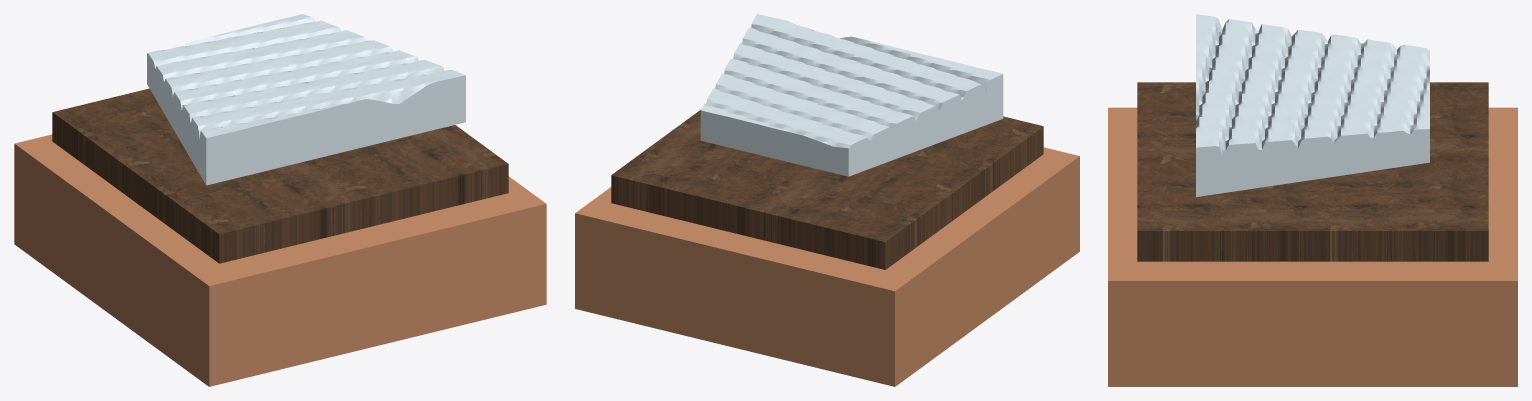
File: isostasy.glb
3 views of the same model, side by side, from view 1: azimuth 30°, elevation 25°; view 2: azimuth 150°, elevation 25°; view 3: azimuth 270°, elevation 25° (orthographic). The views are drawn at different scales.
Parts seen in each view (by area): view 1: Isostasy_Mantle, Isostasy_Crust, Isostasy_Ice; view 2: Isostasy_Mantle, Isostasy_Crust, Isostasy_Ice; view 3: Isostasy_Mantle, Isostasy_Crust, Isostasy_Ice.
Part boxes in pixels (x1,y1,x2,y2): Isostasy_Mantle: [14, 134, 546, 386]; Isostasy_Crust: [52, 88, 508, 263]; Isostasy_Ice: [147, 14, 465, 185]; Isostasy_Mantle: [575, 147, 1079, 386]; Isostasy_Crust: [611, 110, 1043, 269]; Isostasy_Ice: [700, 14, 1003, 176]; Isostasy_Mantle: [1108, 107, 1517, 386]; Isostasy_Crust: [1137, 82, 1488, 261]; Isostasy_Ice: [1196, 14, 1429, 196].
Bounding box in the file's own units: 4.2 × 2.49 × 4.2.
3 materials, 1 textured.
